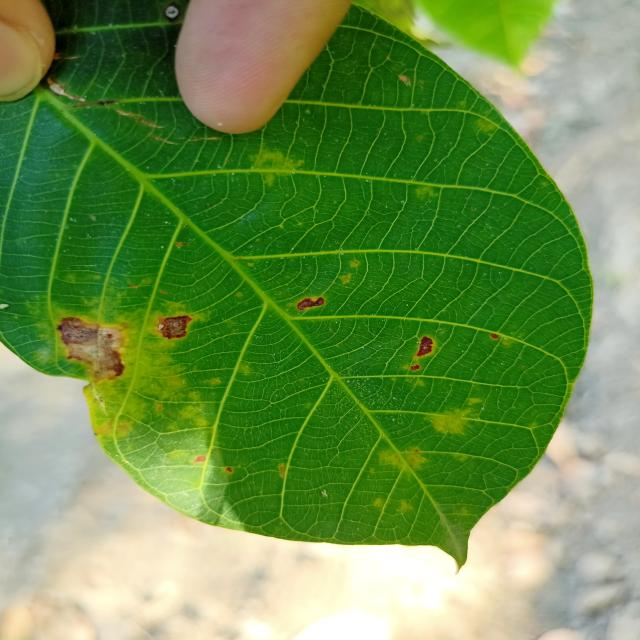Leaf-Blight: (61, 317, 126, 382)
